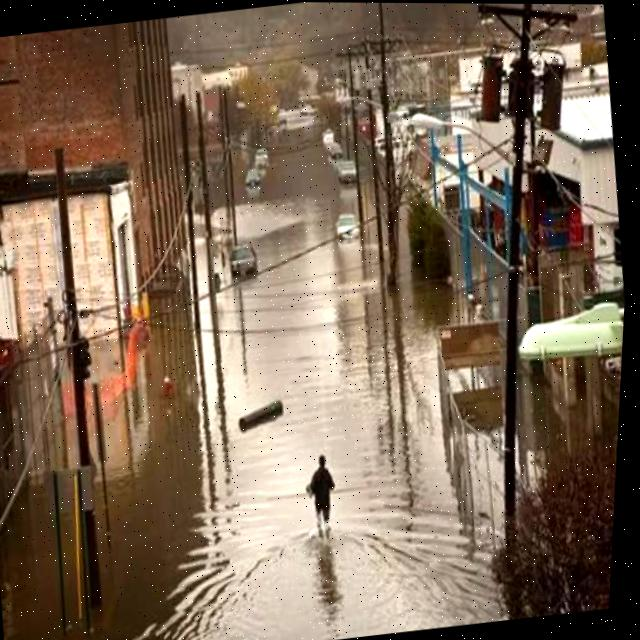civilian: (286, 438, 350, 553)
